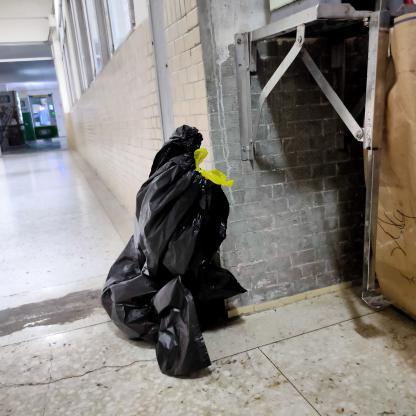black_bag: (100, 126, 247, 378)
